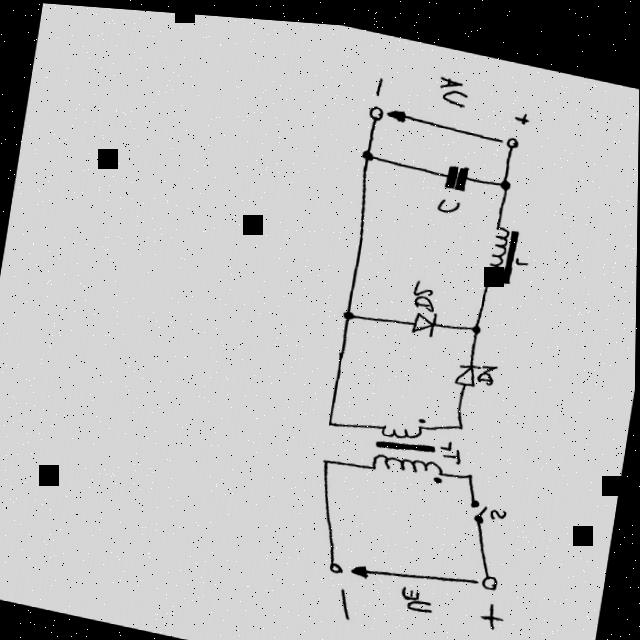capacitor: (441, 153, 471, 187)
diode: (410, 303, 440, 333), (453, 353, 482, 381)
inductor: (483, 216, 519, 279)
junction: (359, 141, 377, 158), (496, 169, 514, 186), (470, 316, 484, 329), (342, 304, 355, 316), (464, 465, 475, 474), (456, 417, 466, 425), (326, 415, 336, 423), (322, 453, 331, 460)
switch: (467, 491, 490, 517)
terminal: (481, 565, 500, 585), (367, 99, 385, 118), (502, 128, 521, 144), (327, 556, 346, 571)
text: (399, 579, 439, 610), (435, 68, 471, 102), (410, 272, 439, 307), (439, 431, 465, 459), (435, 189, 463, 210), (476, 356, 499, 381), (487, 498, 510, 515), (515, 246, 530, 260)
transformer: (371, 403, 452, 482)
